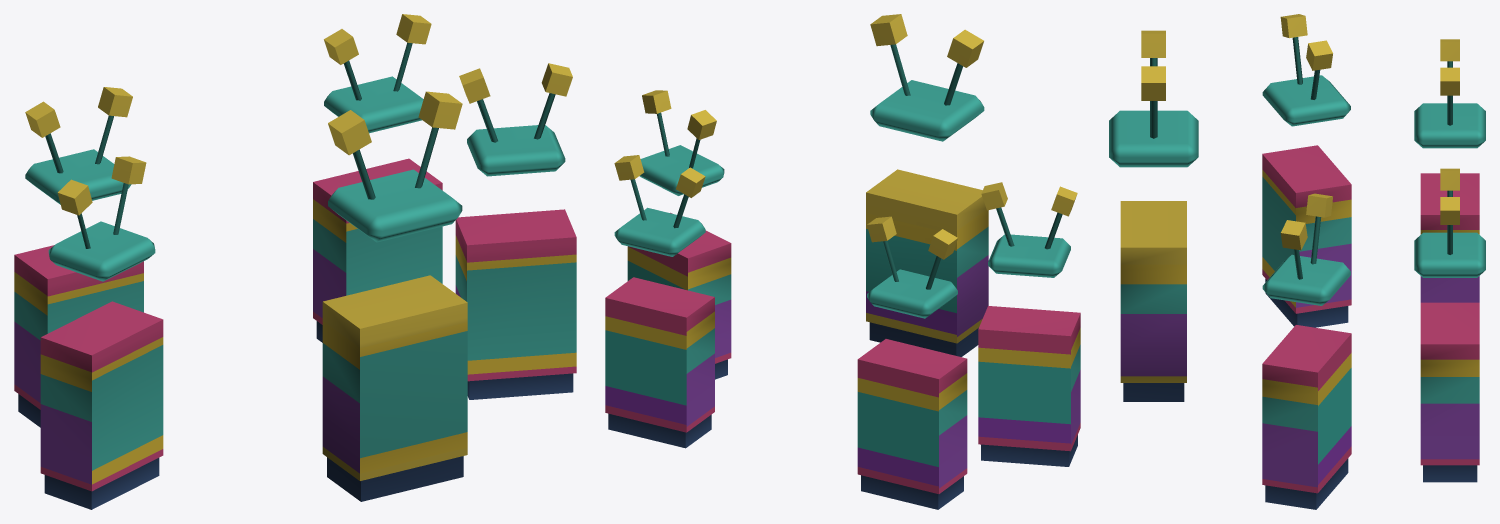
File: out-of-towners-lod2.glb
3 renders of one model, left to right at view 1: azimuth 30°, elevation 25°; view 2: azimuth 150°, elevation 25°; view 3: azimuth 270°, elevation 25°, orthographic. The views are drawn at different scales.
Visible parts, largest first — view 1: cap_torso, att3_torso, att2_torso, att0_torso, cap_hat, att1_torso, att3_hat, att2_hat, att0_hat, att1_hat; view 2: att1_torso, att0_torso, cap_torso, att3_torso, cap_hat, att2_torso, att0_hat, att1_hat, att3_hat, att2_hat; view 3: att2_torso, cap_torso, att0_torso, att3_torso, cap_hat, att3_hat, att2_hat, att1_hat, att0_hat, att1_torso.
Boxes of the visible parts, x1,y1,x2,y2 form: cap_torso: (322,275,467,501); att3_torso: (40,301,163,509); att2_torso: (455,209,576,399); att0_torso: (313,158,442,342); cap_hat: (328,91,462,242); att1_torso: (14,245,143,427); att3_hat: (48,156,155,281); att2_hat: (459,63,572,176); att0_hat: (324,14,431,133); att1_hat: (25,87,132,204); att1_torso: (857,339,967,509); att0_torso: (605,277,714,448); cap_torso: (866,169,988,356); att3_torso: (978,306,1080,466); cap_hat: (870,14,984,141); att2_torso: (627,212,731,379); att0_hat: (614,155,705,256); att1_hat: (867,216,957,318); att3_hat: (981,182,1077,277); att2_hat: (639,90,724,195); att2_torso: (1262,325,1351,509); cap_torso: (1120,201,1186,401); att0_torso: (1420,302,1479,482); att3_torso: (1262,145,1351,327); cap_hat: (1109,30,1198,167); att3_hat: (1262,14,1350,126); att2_hat: (1262,193,1350,305); att1_hat: (1414,39,1485,148); att0_hat: (1414,168,1485,277); att1_torso: (1420,173,1479,302).
Bounding box in the file's own units: 2.18 × 1.55 × 1.53.
